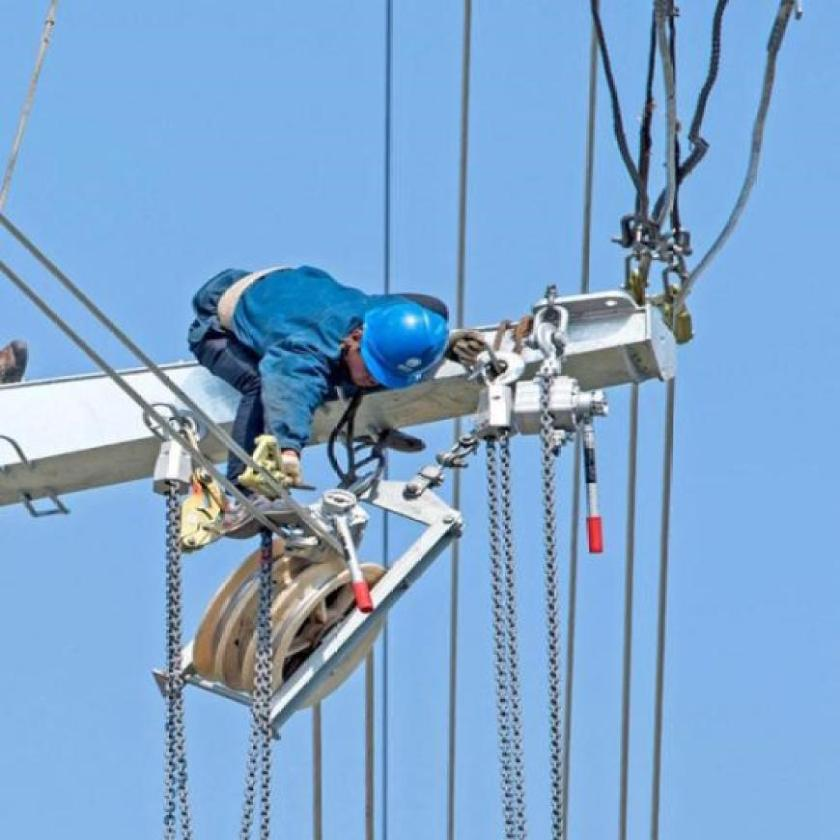Con_casco: (349, 297, 455, 405)
